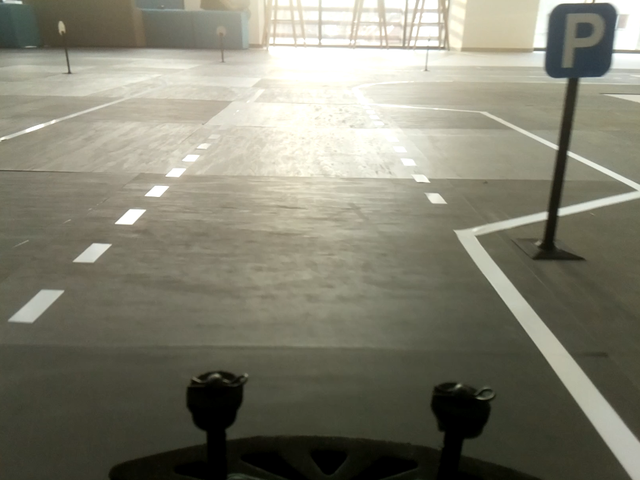parking: (544, 3, 618, 77)
